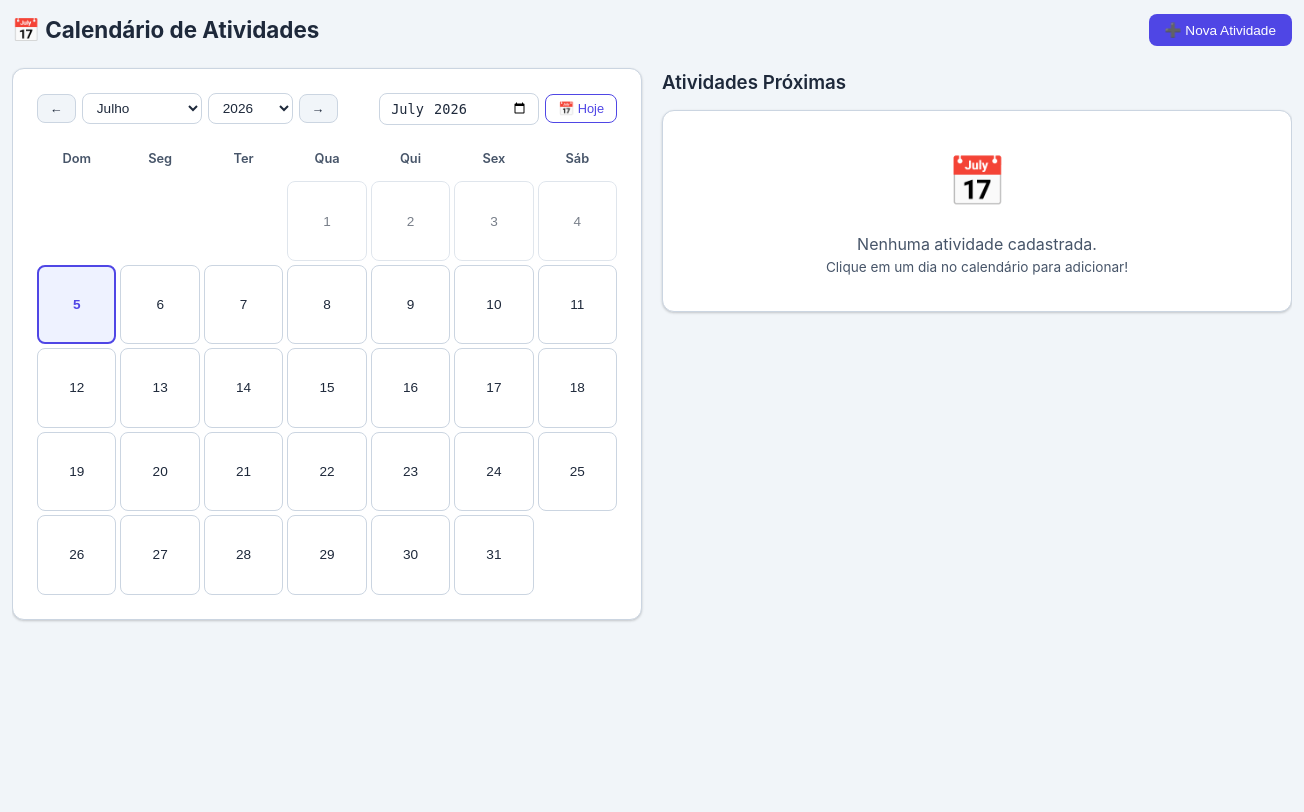
Test case: CalendarView › changes month when clicking next month button
What coordinates should you click on to do the following:
click the button "→"
I would click on:
 (318, 109)
Its box is [299,94,338,123].
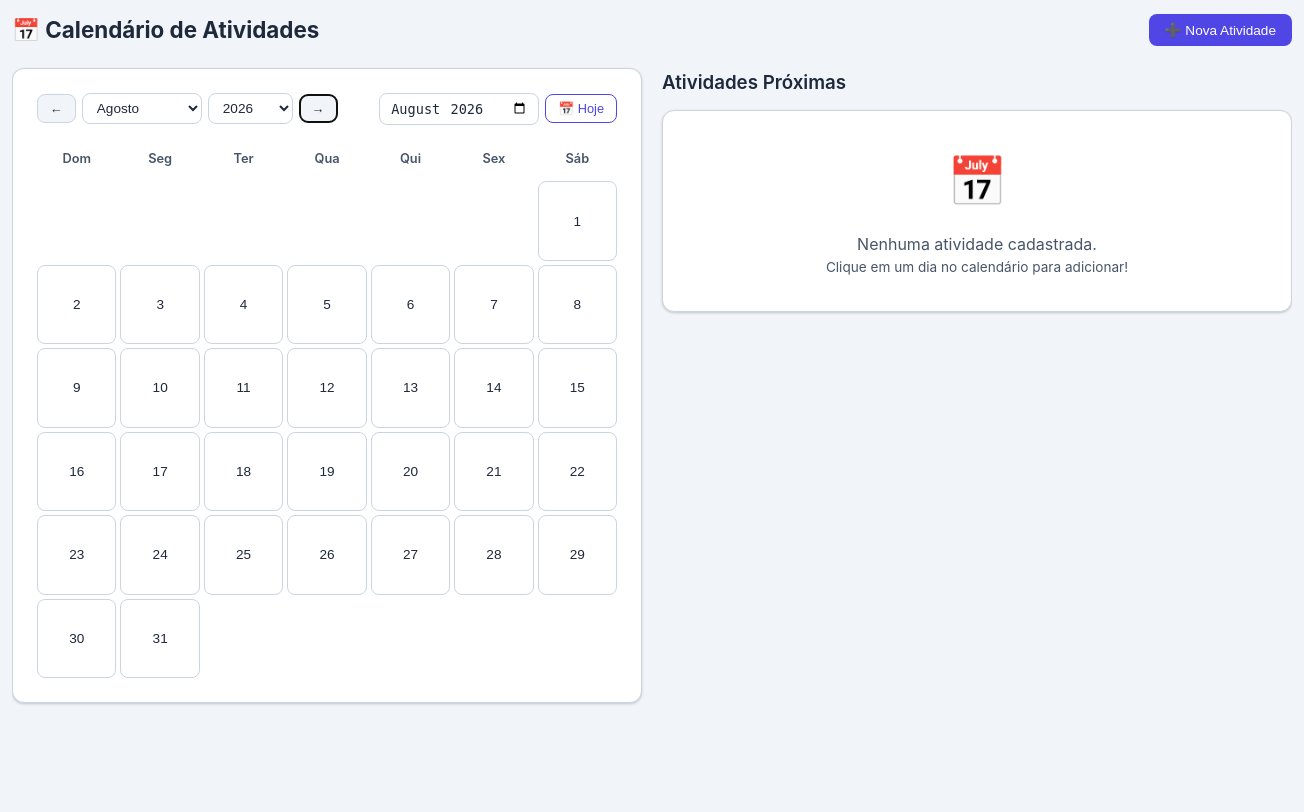
Now the 1st dropdown shows "Agosto", box [82,93,202,124]
